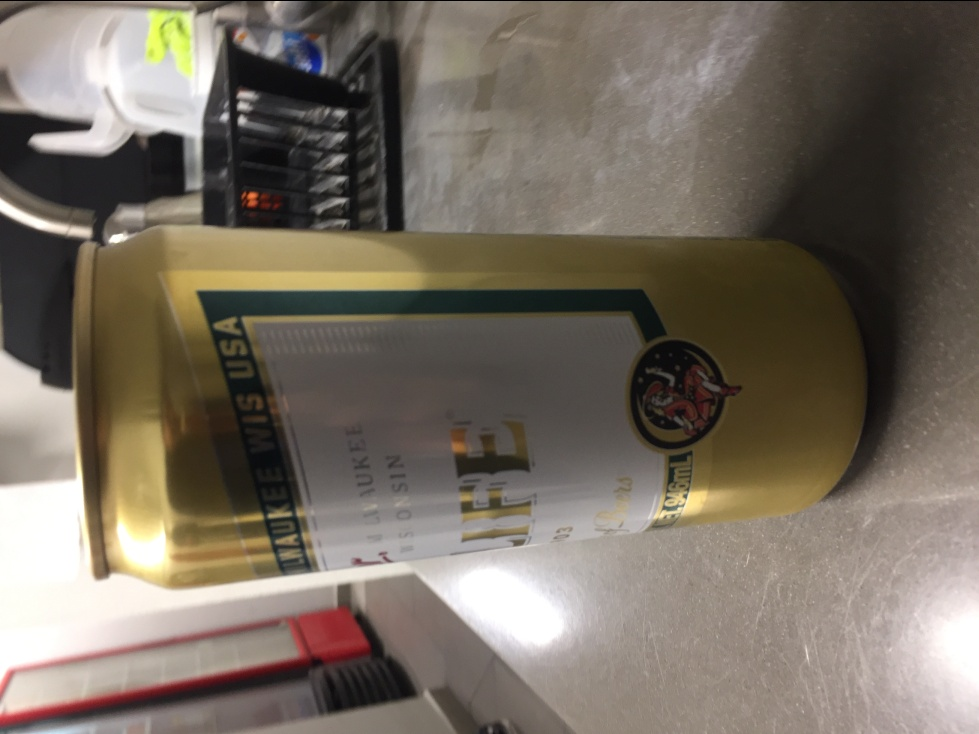miller: (69, 220, 878, 583)
